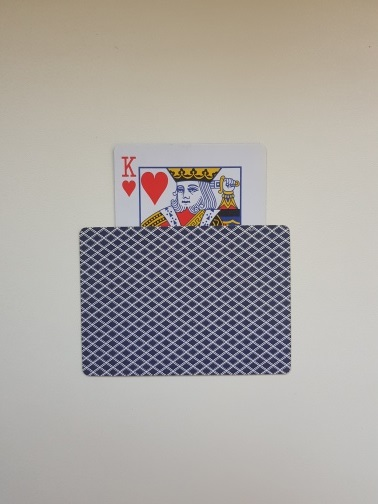king: (112, 142, 267, 355)
